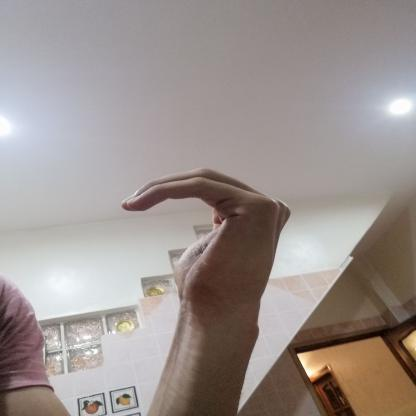HAA: (103, 158, 308, 336)
